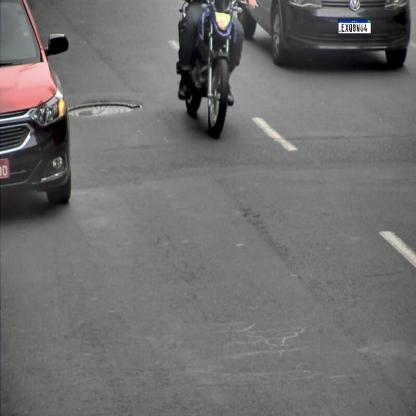PlacaM: (338, 19, 371, 34)
